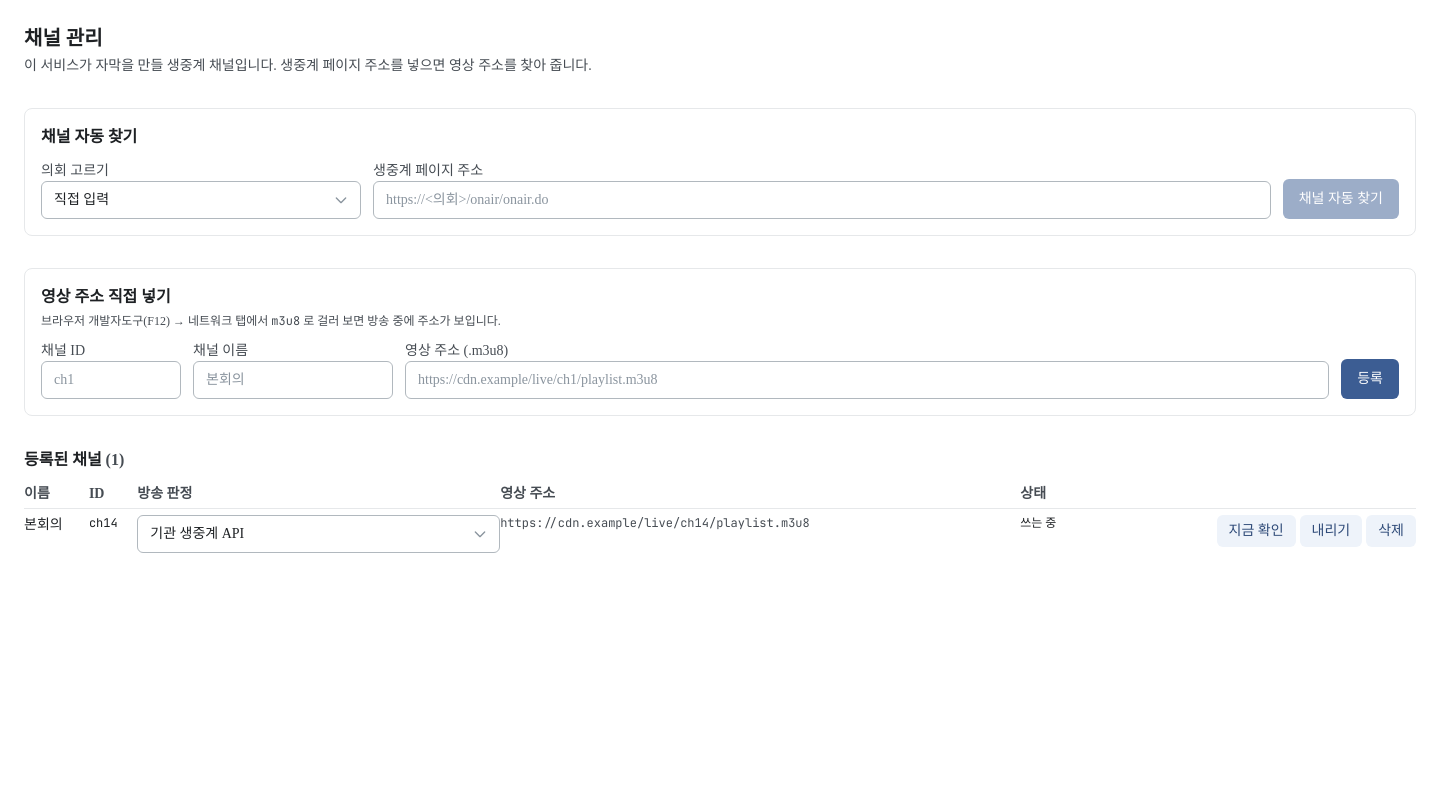
Test: 못 찾으면 무엇을 읽었는지와 직접 입력 길을 보여준다
Expected: the text "본회의" is shown, [24,508,89,559]
Type "https://live.example/x" into the field with placeholder "https://<의회>/onair/onair.do" at x=822, y=200, box [373,181,1271,219]
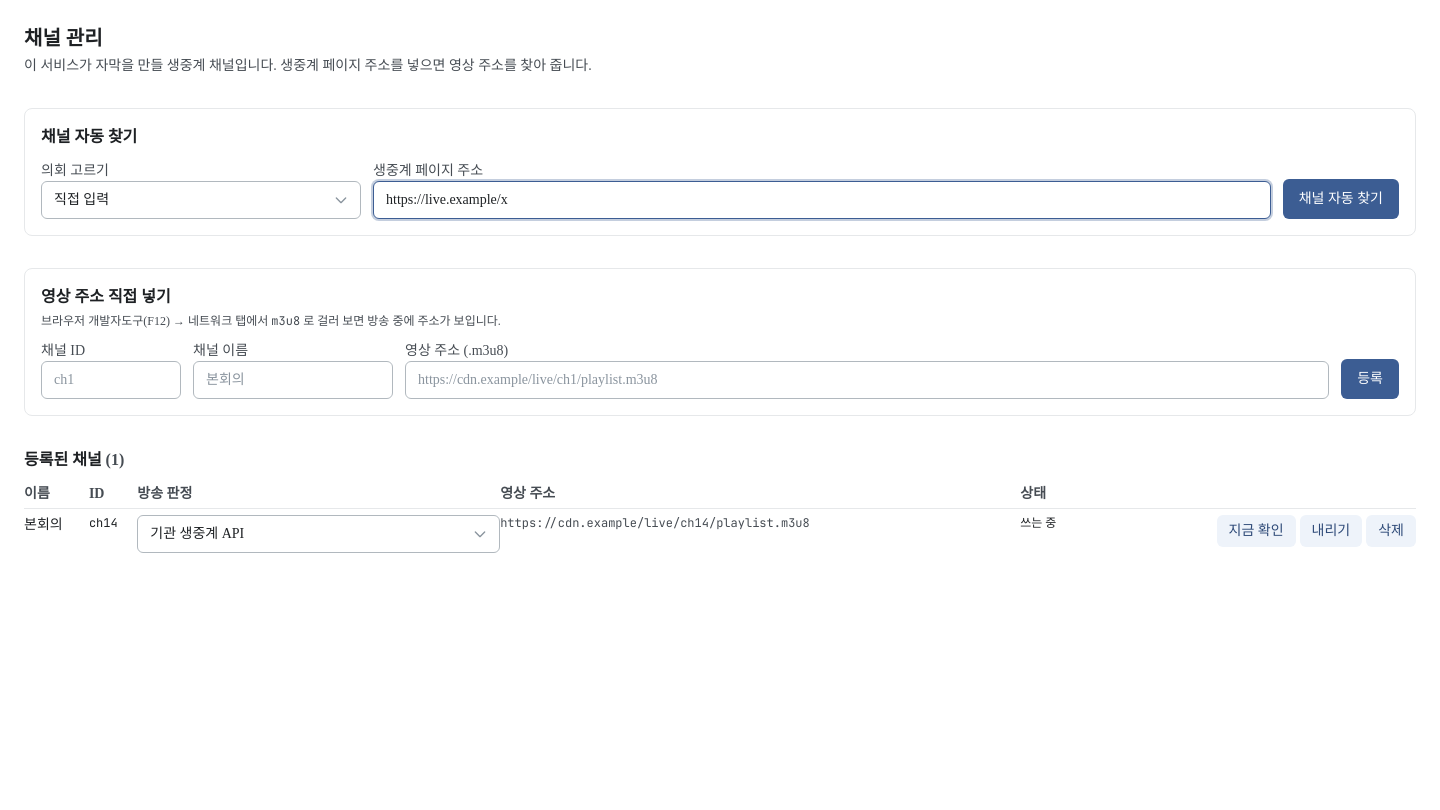
Click the button "채널 자동 찾기" at x=1341, y=199, box [1283,179,1399,219]
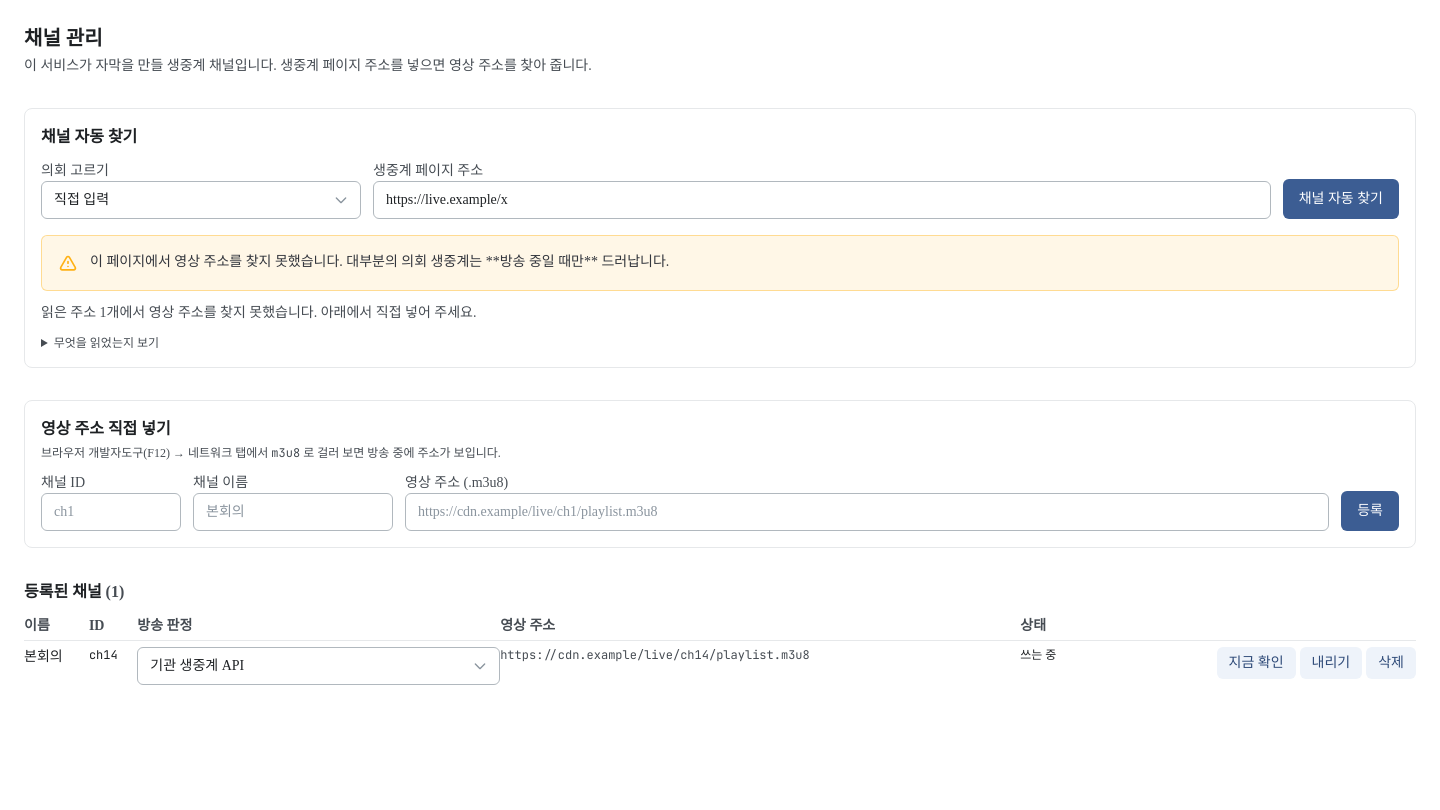
Expected: the element with test id "discover-result" is shown, [41,235,1399,351]
Expected: the text "이 페이지에서 영상 주소를 찾지 못했습니다. 대부분의 의회 생중계는 **방송 중일 때만** 드러납니다." is shown, [90,254,669,269]
Expected: the heading "무엇을 읽었는지 보기" is shown, [54,336,159,350]
